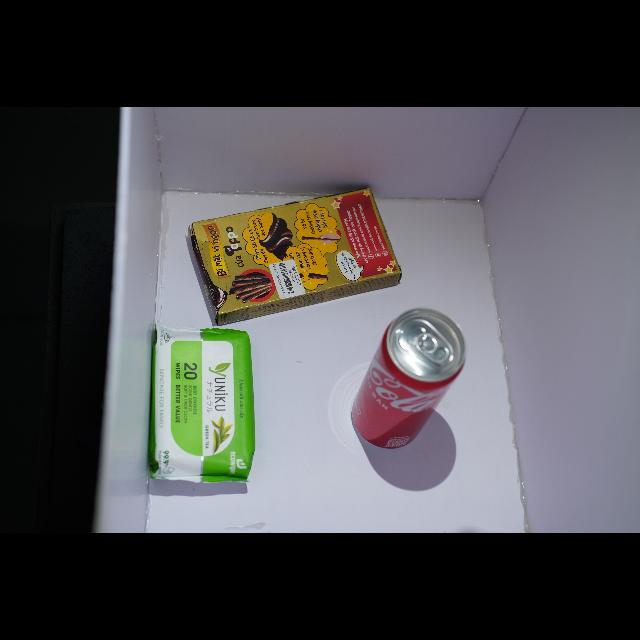banh_toppo_socola: (189, 189, 401, 325)
coca_cola: (353, 309, 465, 449)
khan_giay: (150, 324, 255, 482)
